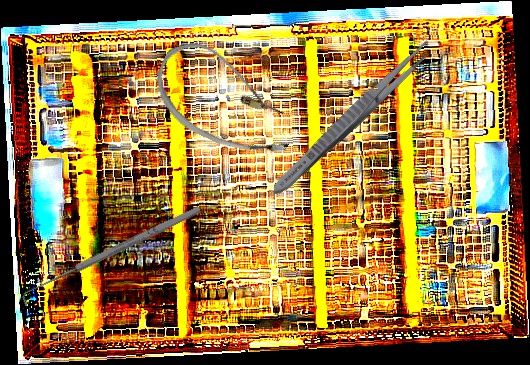Cannula: (141, 32, 312, 171)
Dressing Forceps: (266, 35, 438, 201)
Hook Surgical: (17, 202, 206, 309)
